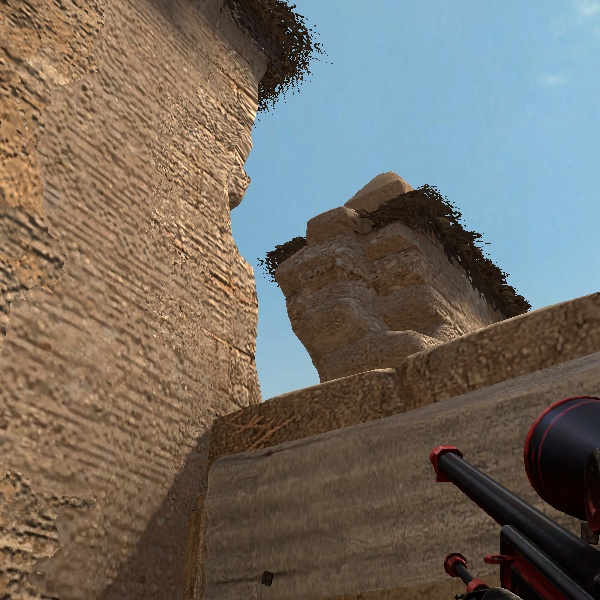t_head: (471, 337, 598, 595)
